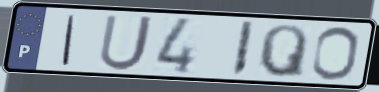4: (153, 16, 199, 76)
I: (229, 19, 257, 79), (59, 13, 79, 67)
O: (309, 25, 361, 82)
Q: (256, 23, 310, 81)
U: (96, 13, 157, 73)
